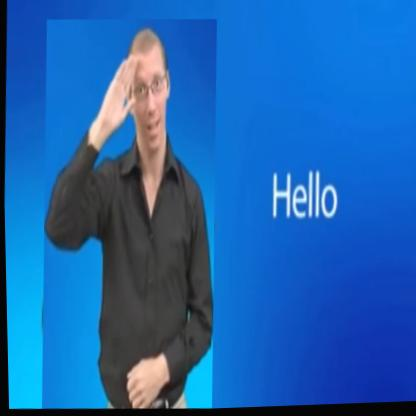Hello: (33, 15, 223, 415)
